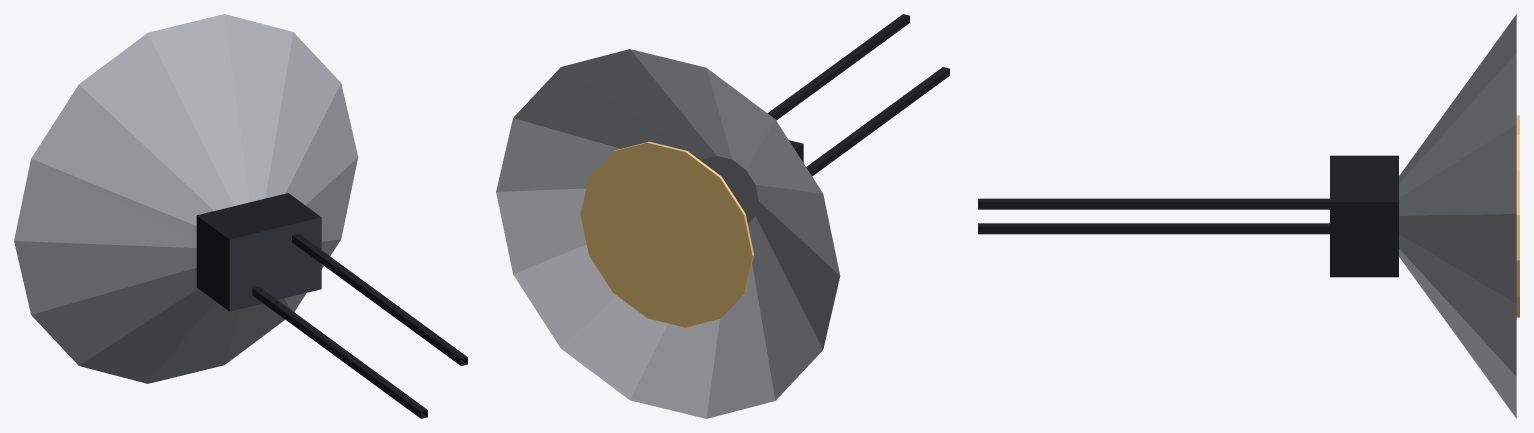
File: b_lamp_pro.obj
3 views of the same model, side by side, from view 1: azimuth 30°, elevation 25°; view 2: azimuth 150°, elevation 25°; view 3: azimuth 270°, elevation 25° (orthographic). The views are drawn at different scales.
Bounding box in the file's own units: 0.6 × 0.585 × 0.785.
Materials: 1 (1 with a texture image).
